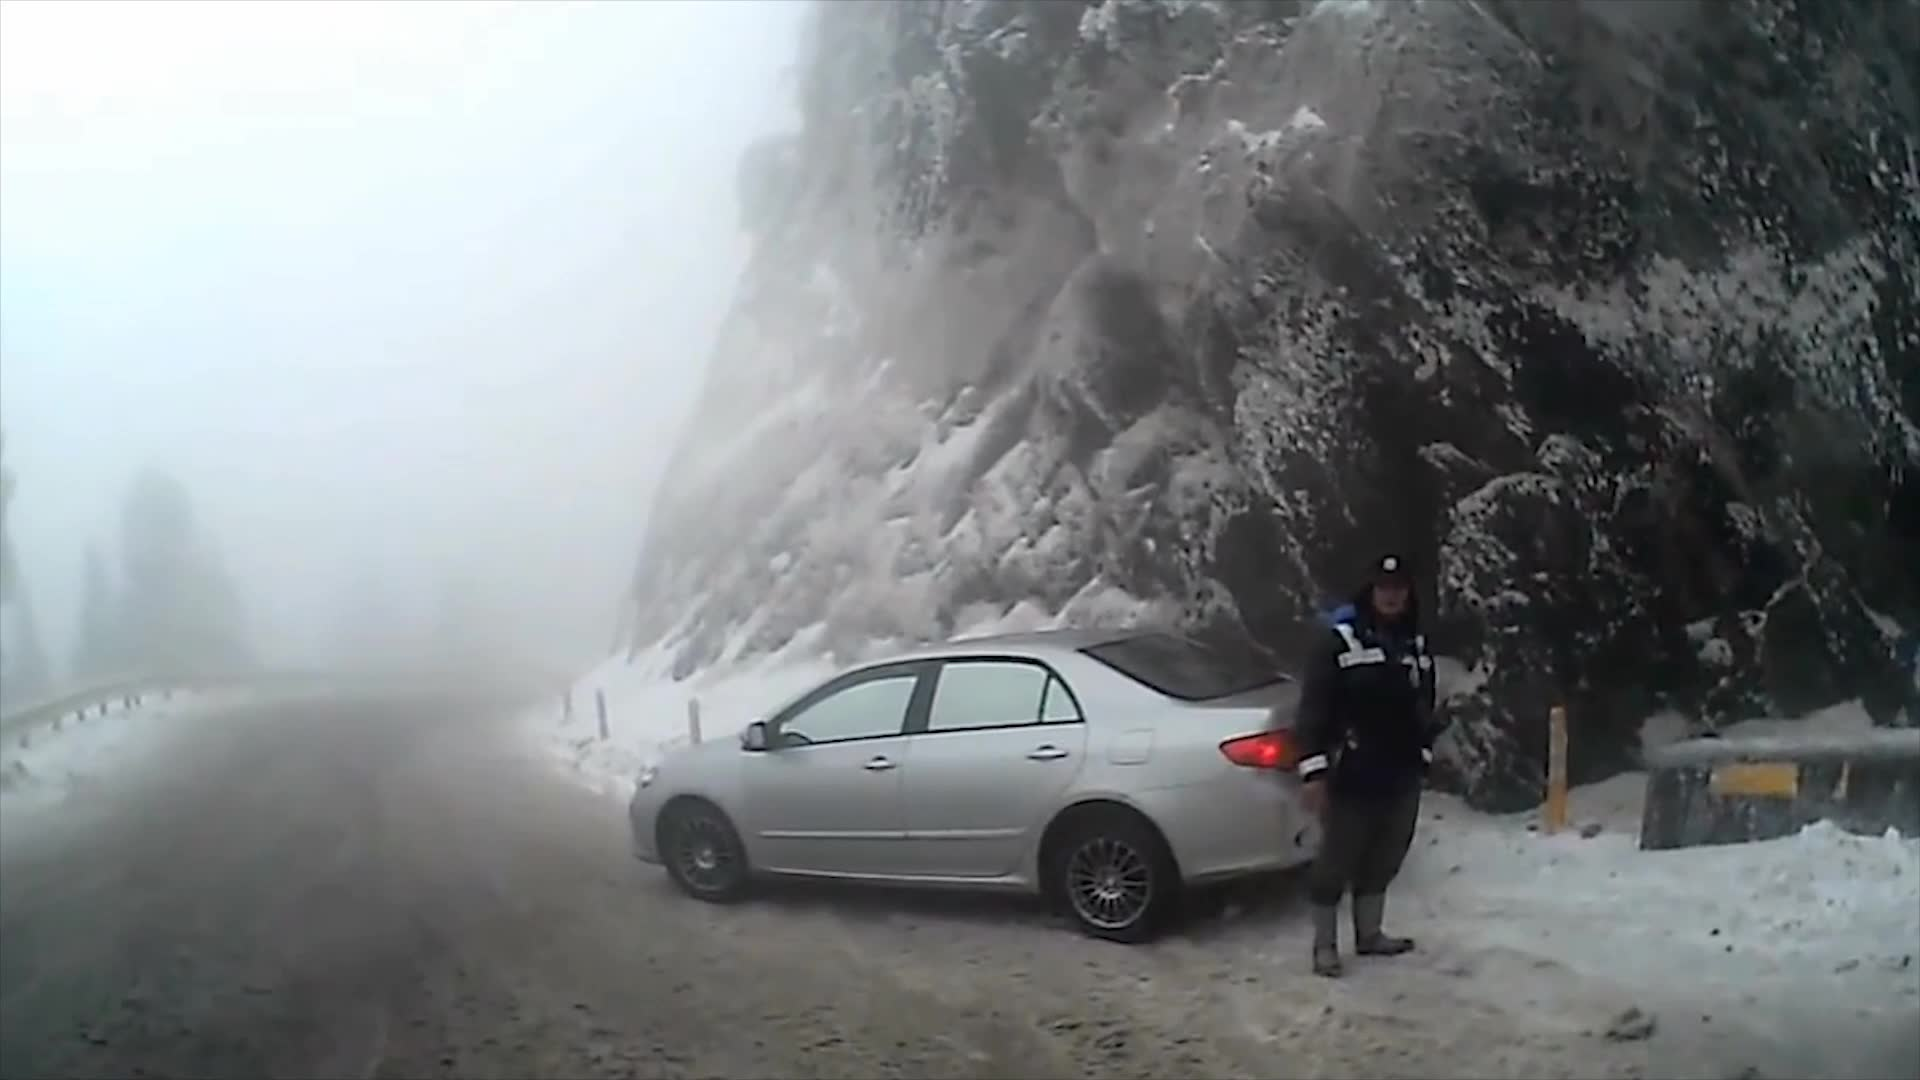pedestrian: (1293, 551, 1431, 981)
vehicle: (631, 626, 1397, 943)
